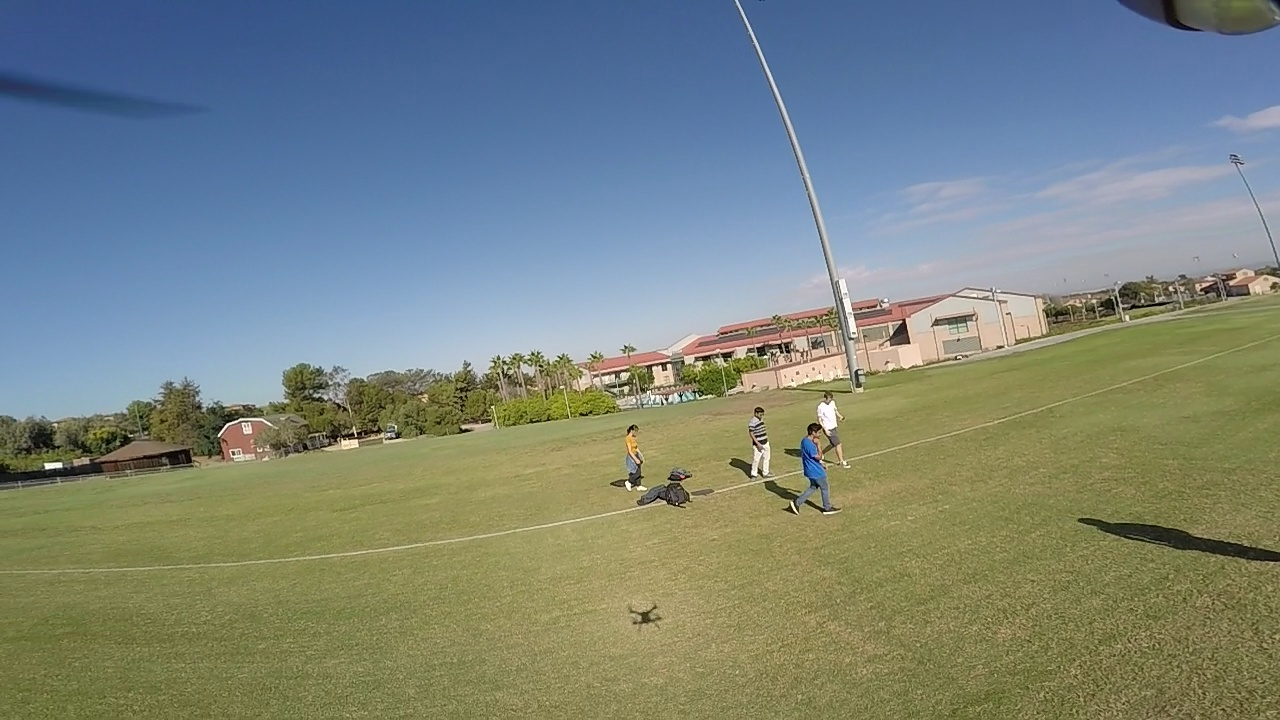person: (786, 421, 837, 514), (819, 383, 849, 464), (744, 400, 771, 477), (618, 418, 643, 486)
